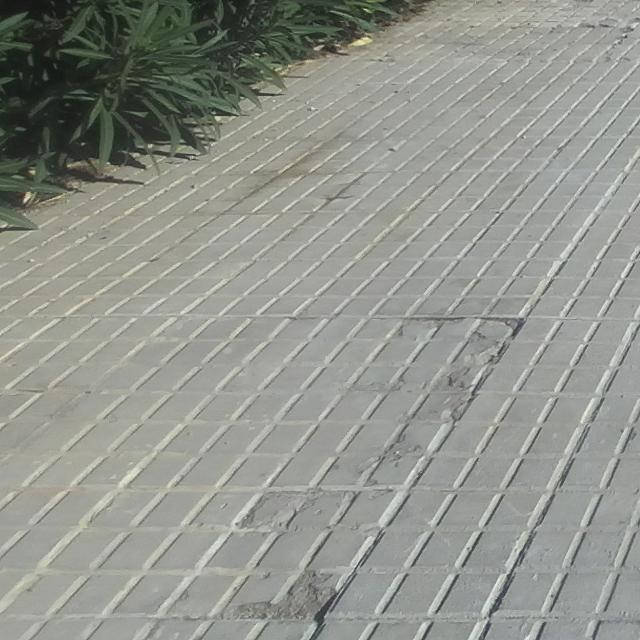calcada_quebrada: (208, 564, 355, 625), (362, 371, 509, 422), (392, 313, 527, 368), (347, 426, 432, 499), (226, 484, 317, 537)
